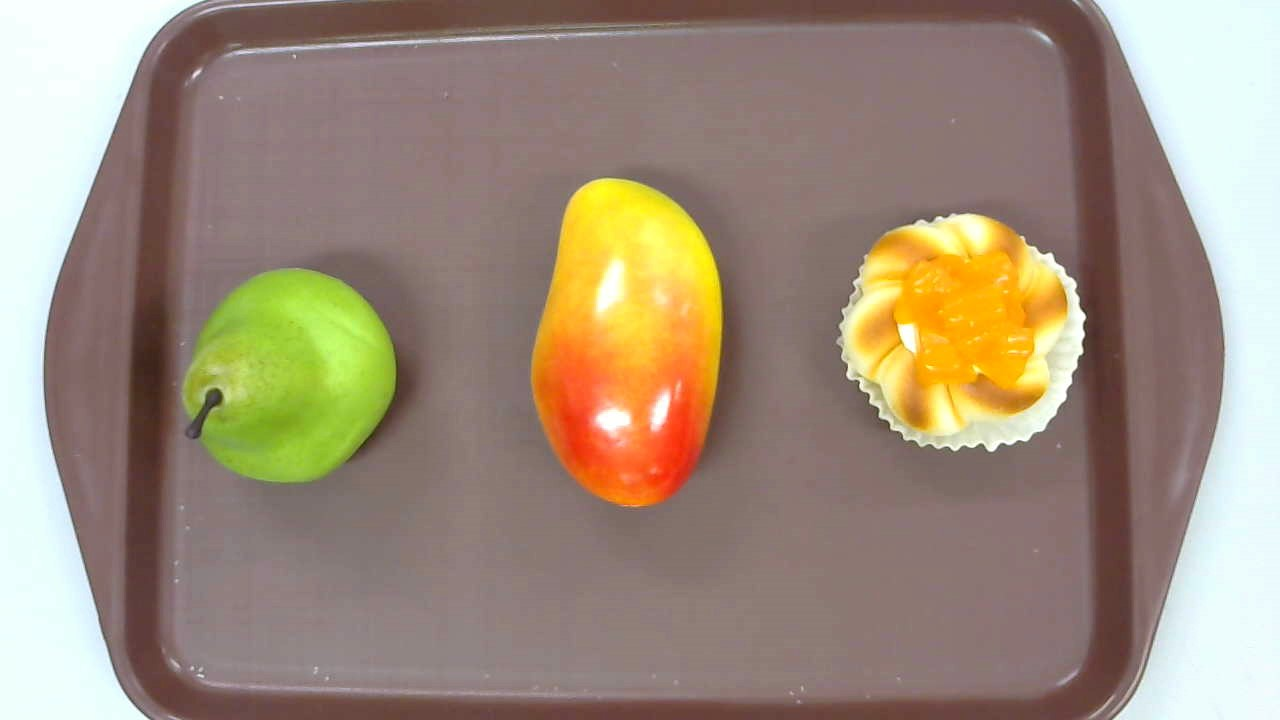green pear: (180, 269, 396, 481)
mango tart: (837, 212, 1085, 455)
red mango: (531, 178, 723, 508)
